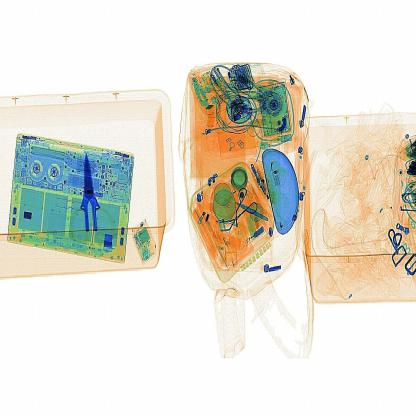gun: (64, 146, 119, 254)
